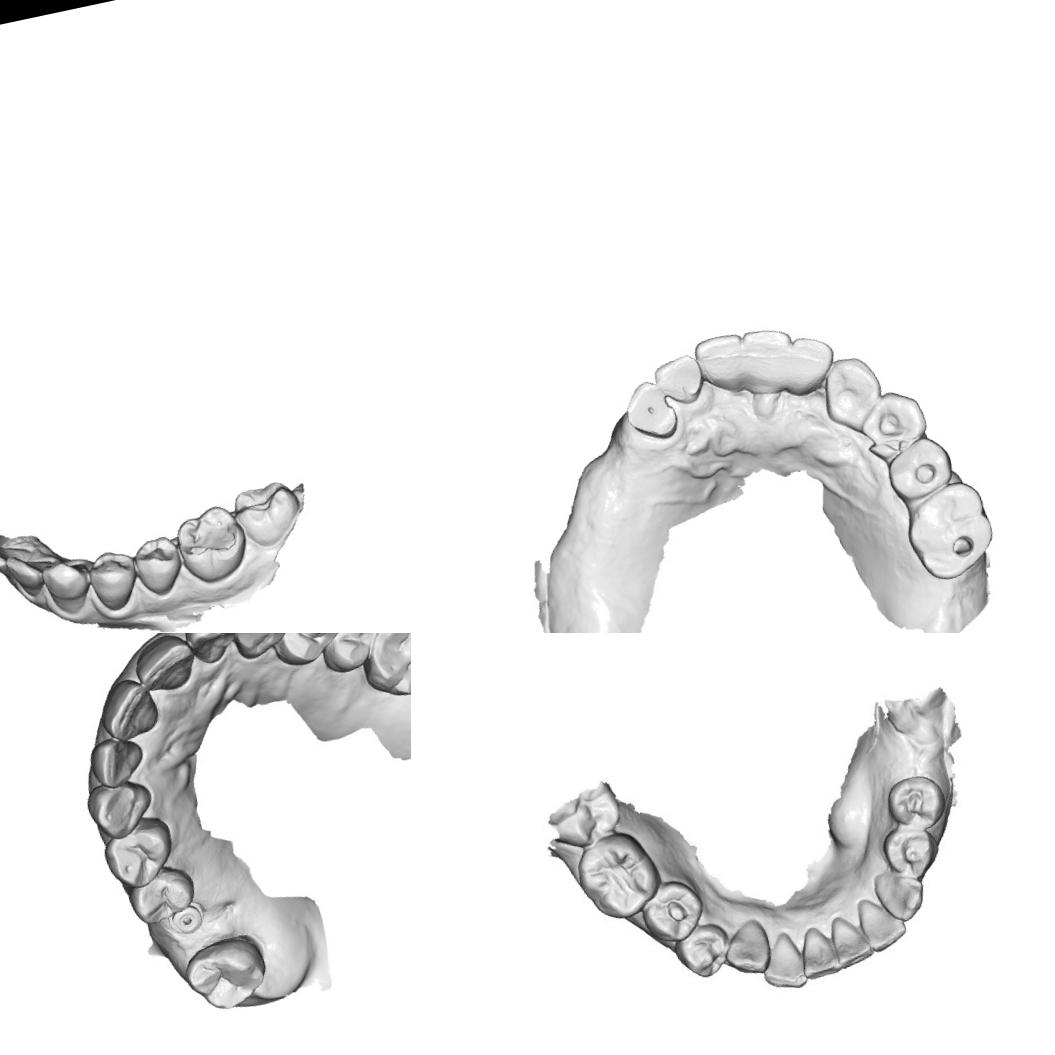canine: (81, 774, 161, 844), (815, 352, 888, 428), (618, 375, 681, 446), (714, 916, 776, 980), (38, 555, 94, 612), (875, 862, 928, 922), (227, 633, 287, 660)
implant: (166, 900, 209, 938)
incisor: (90, 672, 162, 744), (738, 323, 802, 399), (128, 633, 201, 698), (776, 330, 842, 400), (691, 330, 752, 402), (83, 731, 150, 794), (650, 351, 708, 411), (758, 930, 812, 994), (856, 892, 910, 954), (823, 912, 876, 972), (792, 926, 844, 983), (179, 633, 243, 669), (3, 550, 46, 602), (0, 530, 35, 583)
molar: (898, 475, 1002, 587), (568, 824, 670, 931), (176, 928, 276, 1018), (172, 500, 253, 588), (229, 476, 308, 552), (350, 633, 411, 707)
premolar: (97, 810, 183, 896), (854, 384, 934, 464), (880, 430, 958, 506), (120, 861, 202, 930), (84, 546, 143, 614), (130, 532, 188, 600), (886, 773, 946, 833), (646, 878, 706, 938), (313, 633, 389, 680), (677, 925, 733, 982), (883, 822, 941, 877), (267, 633, 348, 670)
